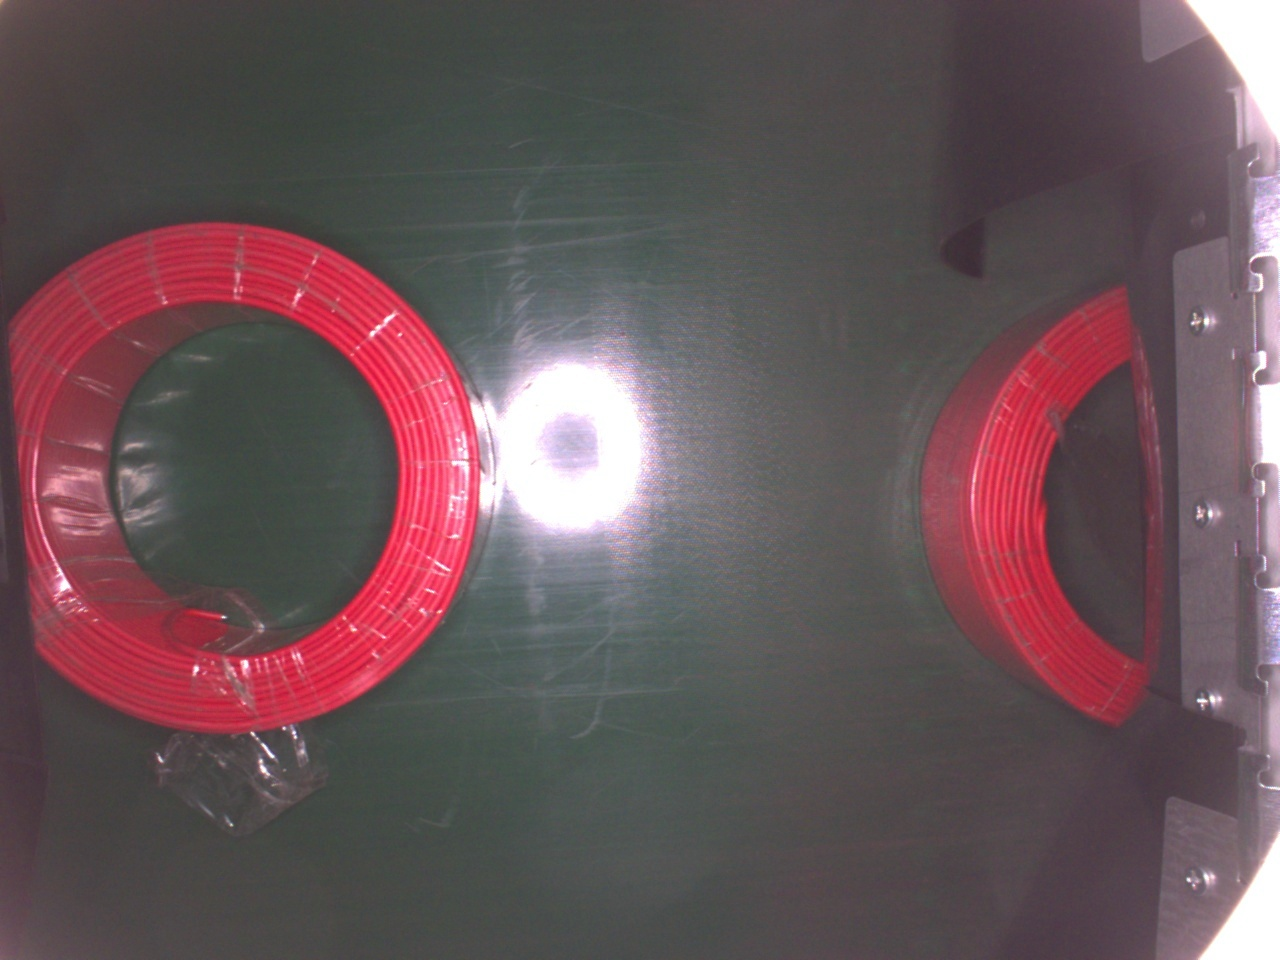red: (5, 217, 496, 724), (913, 276, 1158, 728)
